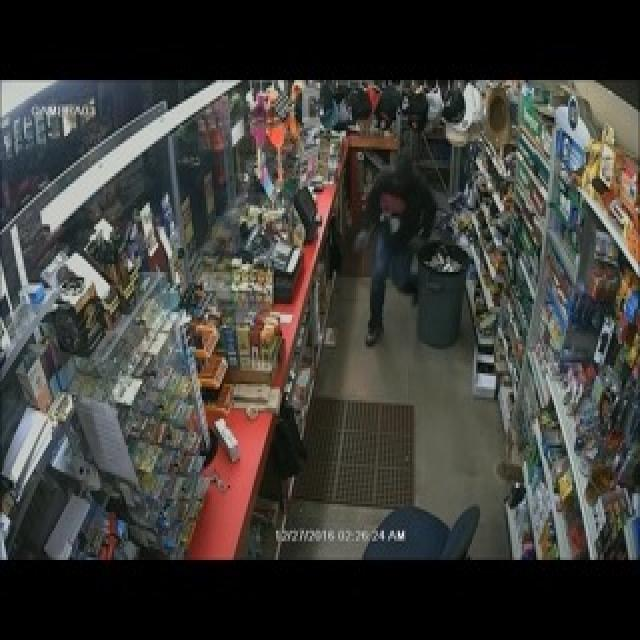thief: (368, 145, 436, 303)
